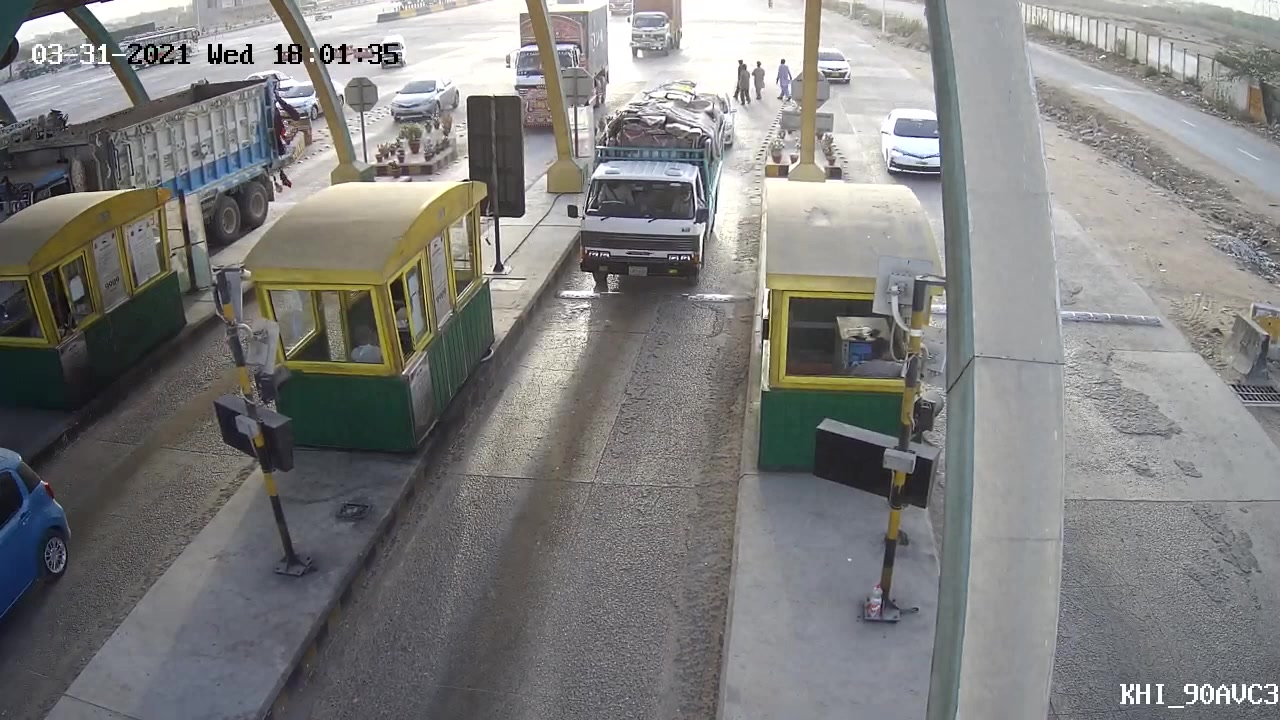F3: (561, 78, 737, 300)
